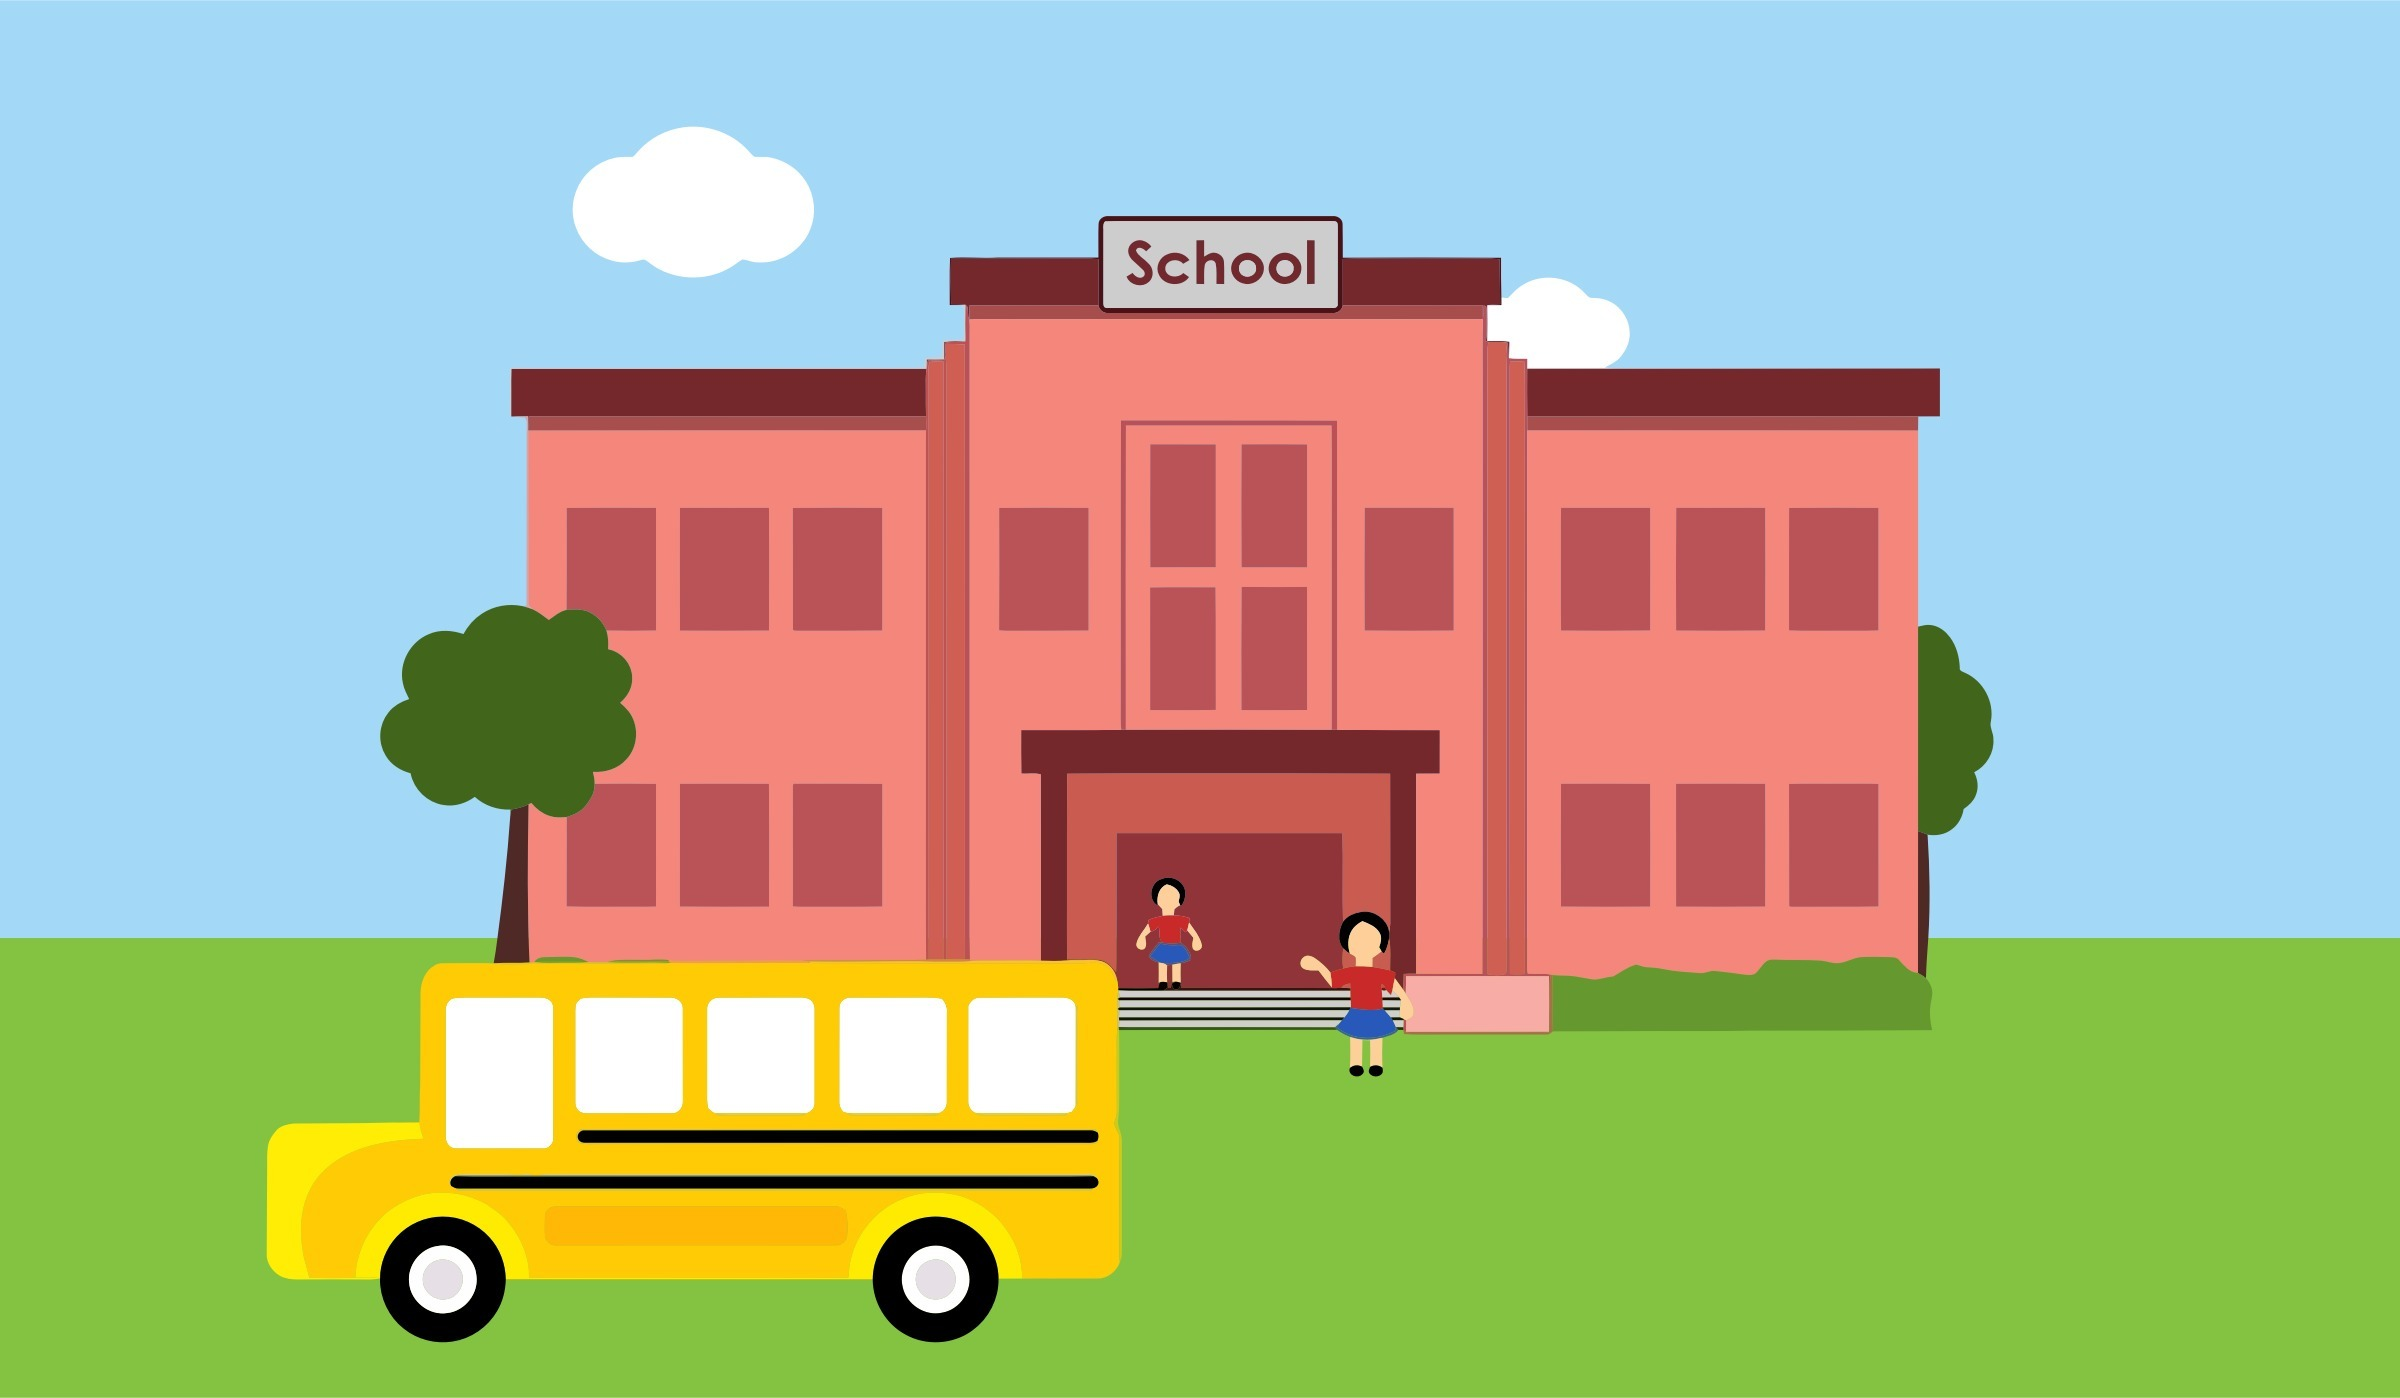bus: (160, 919, 1211, 1363)
person: (1278, 901, 1429, 1091), (1119, 865, 1226, 1006)
